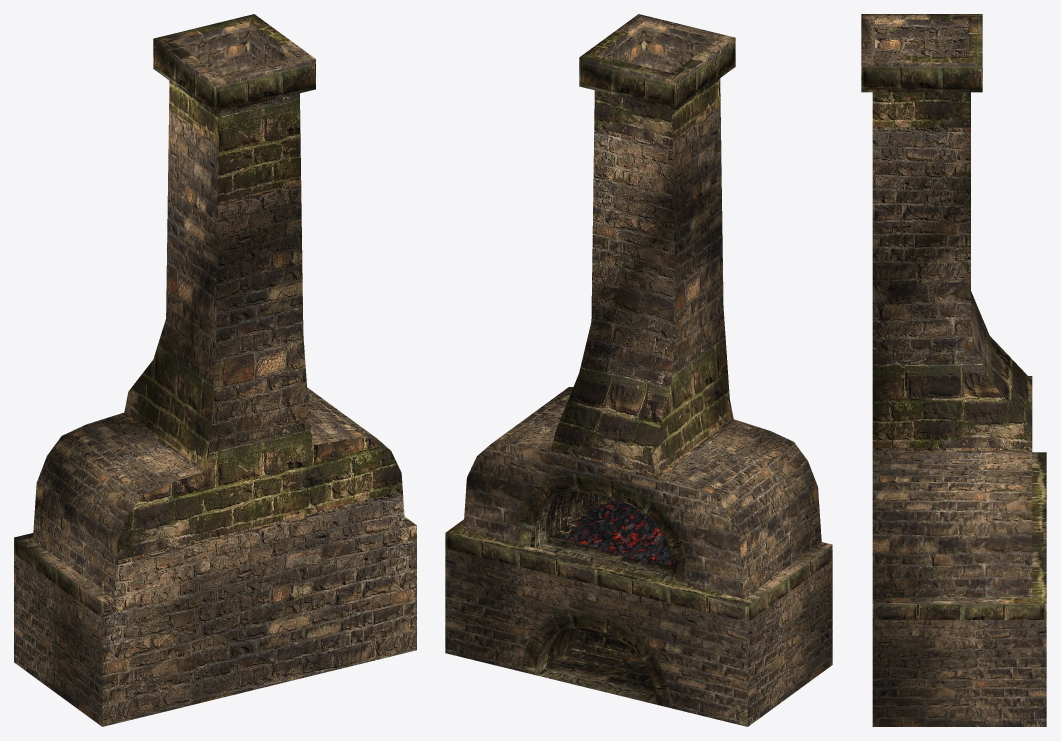
Rendered from KM_VOB_FIREPLACE_01.glb.
The picture shows the model from 3 angles, left to right: view 1: azimuth 30°, elevation 25°; view 2: azimuth 150°, elevation 25°; view 3: azimuth 270°, elevation 25°; orthographic projection. The views are drawn at different scales.
Parts seen in each view (by area): view 1: Mesh; view 2: Mesh; view 3: Mesh.
Part boxes in pixels (<box>): Mesh: <box>14,14,416,726</box>; Mesh: <box>445,14,832,726</box>; Mesh: <box>861,14,1046,726</box>.
Size of the model in its own units: 2.47 by 4.67 by 1.28.
4 materials, 4 textured.
